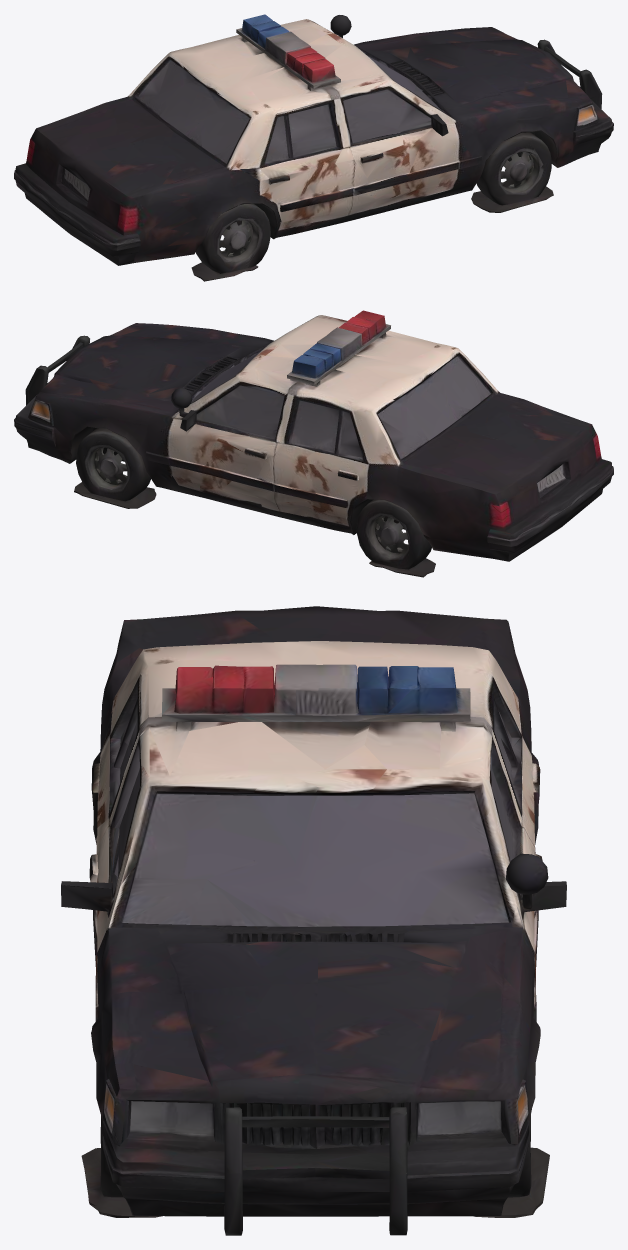
The model's file is car_police_b_idle.glb.
3 views of the same model, one above another, from view 1: azimuth 30°, elevation 25°; view 2: azimuth 150°, elevation 25°; view 3: azimuth 270°, elevation 25° (orthographic). The views are drawn at different scales.
Visible parts, largest first — view 1: tripo_node_700de752-2c33-491b-b500-6e84797100ed; view 2: tripo_node_700de752-2c33-491b-b500-6e84797100ed; view 3: tripo_node_700de752-2c33-491b-b500-6e84797100ed.
Part boxes in pixels (x1=…): tripo_node_700de752-2c33-491b-b500-6e84797100ed: x1=14, y1=14, x2=613, y2=281; tripo_node_700de752-2c33-491b-b500-6e84797100ed: x1=14, y1=310, x2=613, y2=577; tripo_node_700de752-2c33-491b-b500-6e84797100ed: x1=61, y1=606, x2=566, y2=1235.
Size of the model in its own units: 4.8 by 1.48 by 2.01.
1 material, 1 textured.
